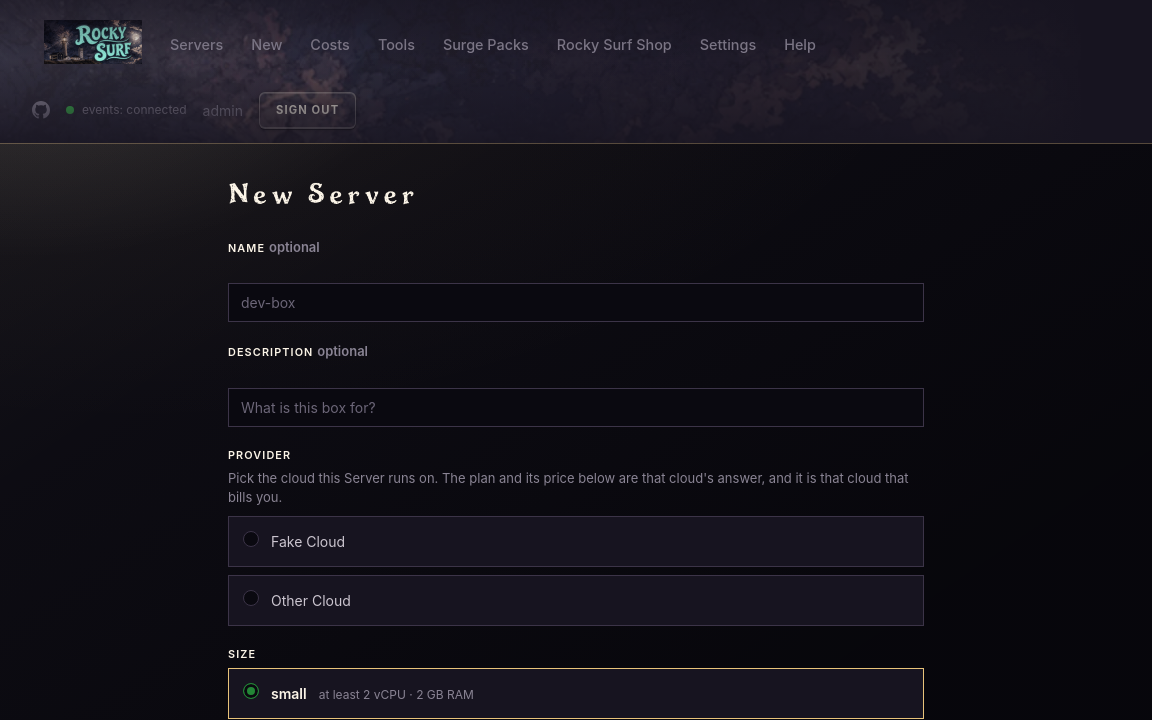
pricing every size option, not only the selected one › re-labels every option when the cloud changes
This screenshot has width=1152, height=720.
Step 1. Click the radio button labelled "Fake Cloud" → [251, 539], box [243, 531, 259, 547]
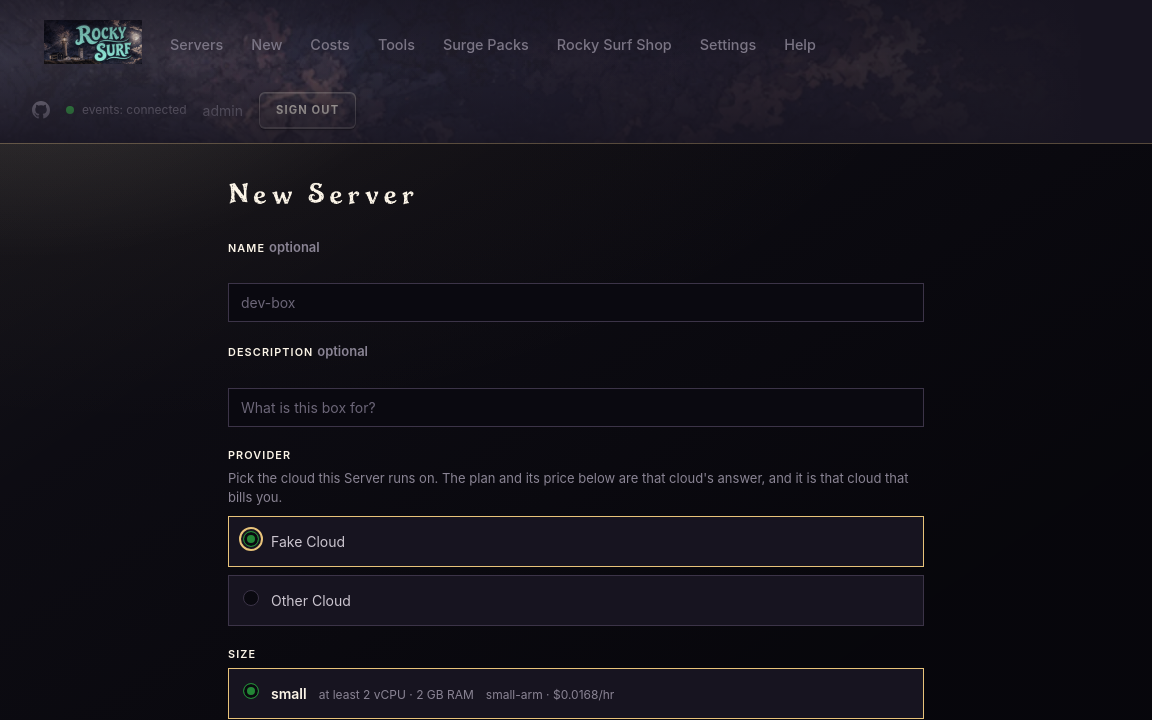
Expected: the text with test id "size-resolves-small" reads "small-arm · $0.0168/hr", [486, 686, 614, 704]
Step 2. Click the radio button labelled "Other Cloud" → [251, 598], box [243, 590, 259, 606]
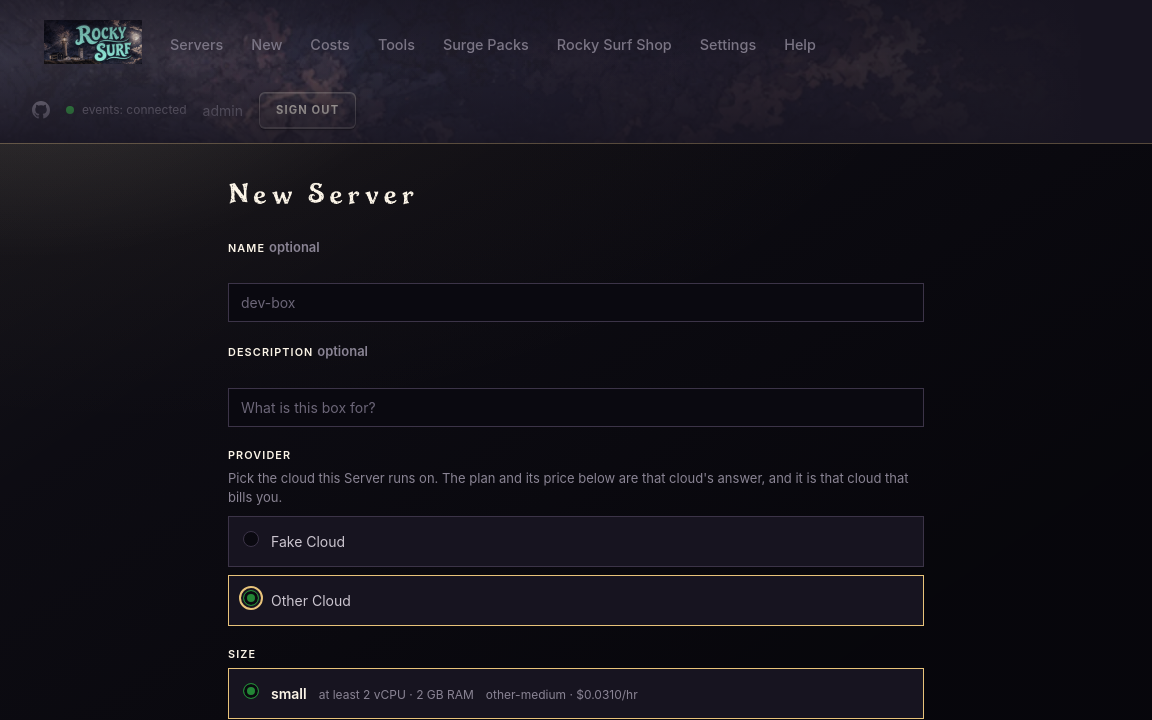
Expected: the text with test id "size-resolves-small" reads "other-medium · $0.0310/hr", [486, 686, 638, 704]
